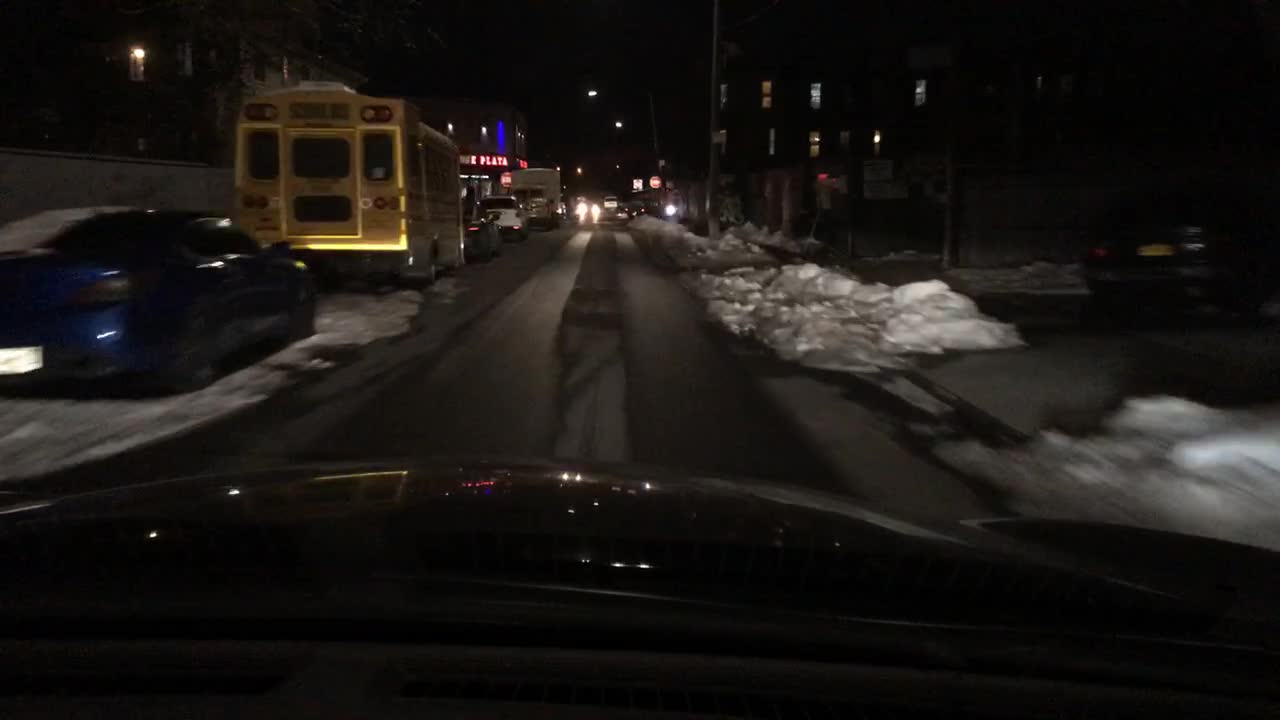bus: (230, 82, 463, 290)
car: (0, 203, 318, 404), (1080, 187, 1278, 319), (459, 195, 502, 262), (482, 192, 530, 244), (625, 197, 661, 219), (576, 202, 596, 218), (603, 194, 619, 209)
traffic sign: (709, 129, 729, 145), (649, 174, 663, 188)
truck: (503, 167, 561, 232)
